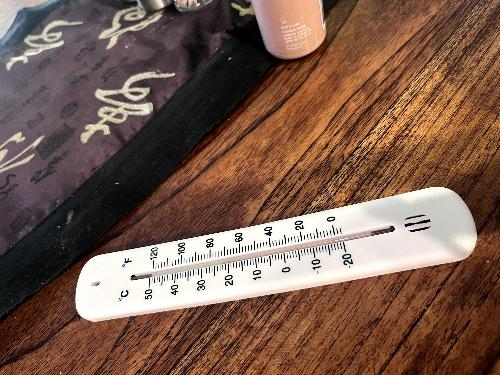thermo: (67, 181, 476, 333)
